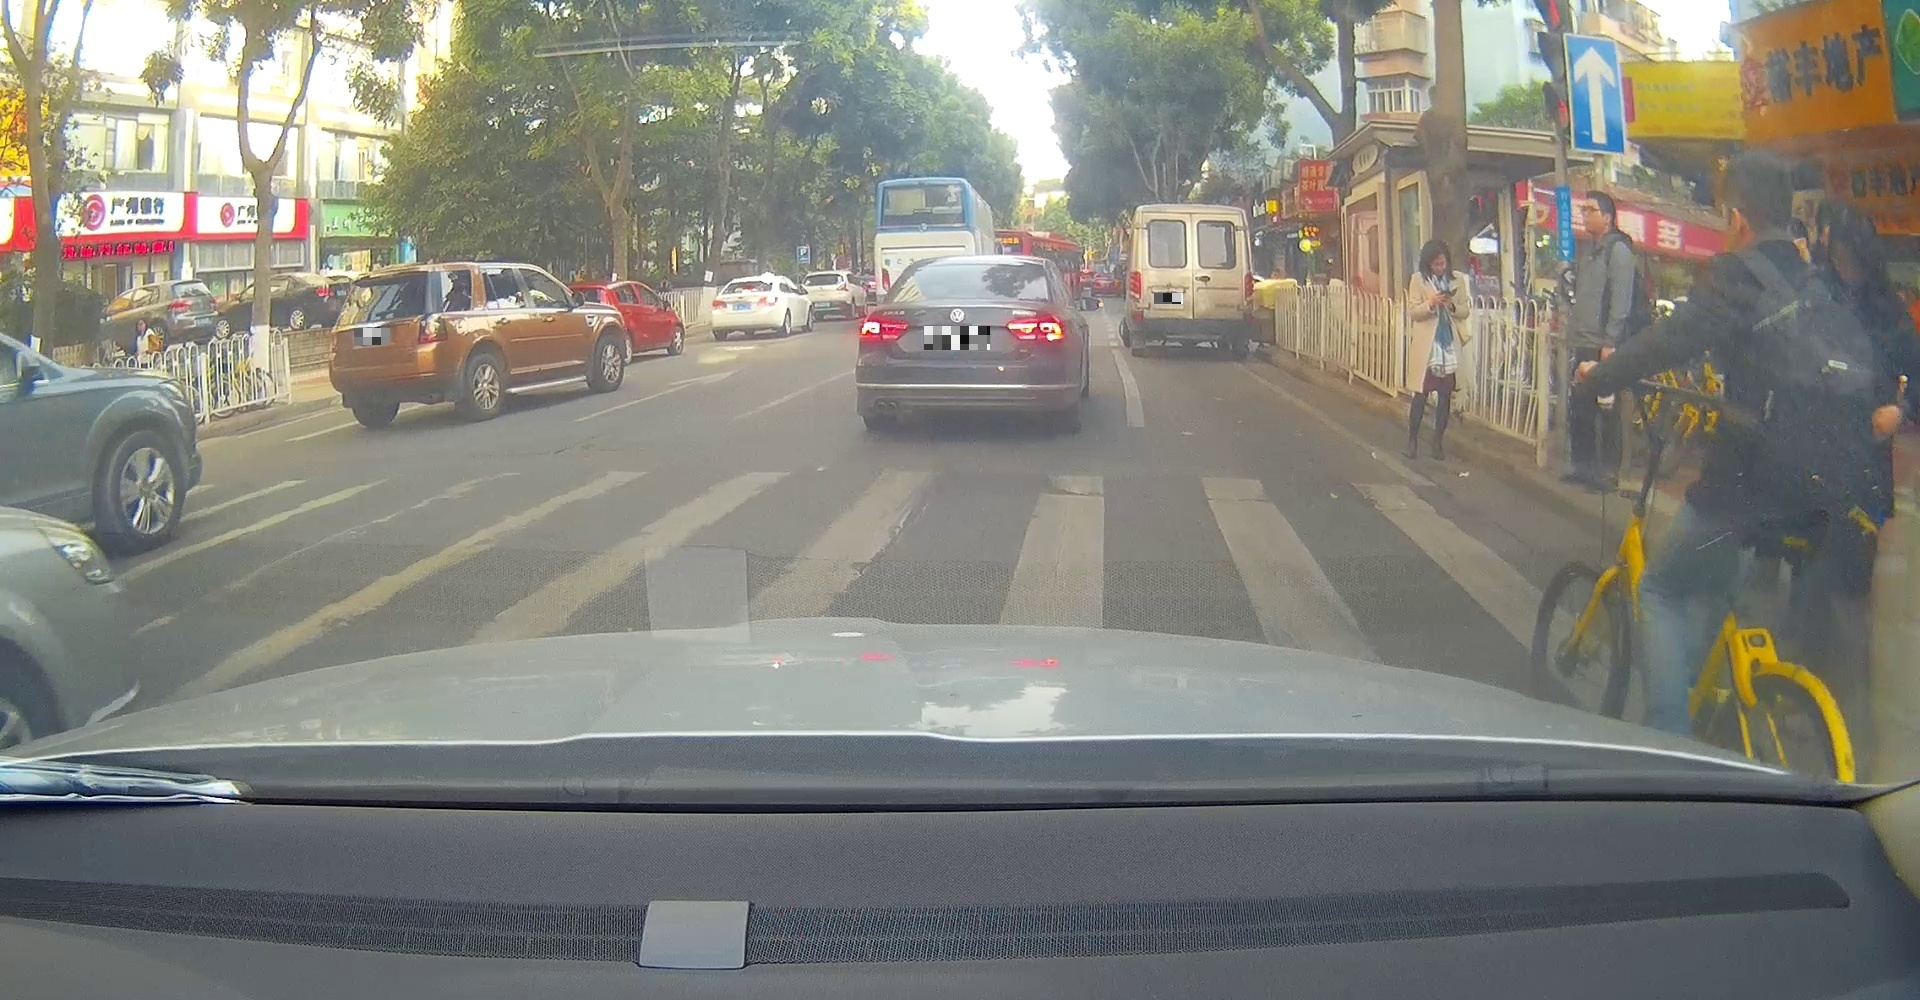L_light: (858, 316, 910, 343), (328, 330, 342, 359), (1128, 270, 1142, 299), (711, 299, 728, 310)
R_light: (1004, 313, 1065, 343), (415, 312, 450, 344), (1244, 272, 1256, 303), (756, 294, 778, 308)
T_light: (366, 275, 392, 283), (943, 294, 980, 299), (1180, 211, 1203, 217), (740, 289, 753, 293)
day-brake: (855, 255, 1067, 429), (709, 275, 780, 340)
day-no: (326, 261, 455, 426), (1124, 201, 1257, 358)
plate_1: (354, 327, 390, 345)
plate_2: (924, 326, 990, 350)
plate_3: (1154, 293, 1183, 305)
